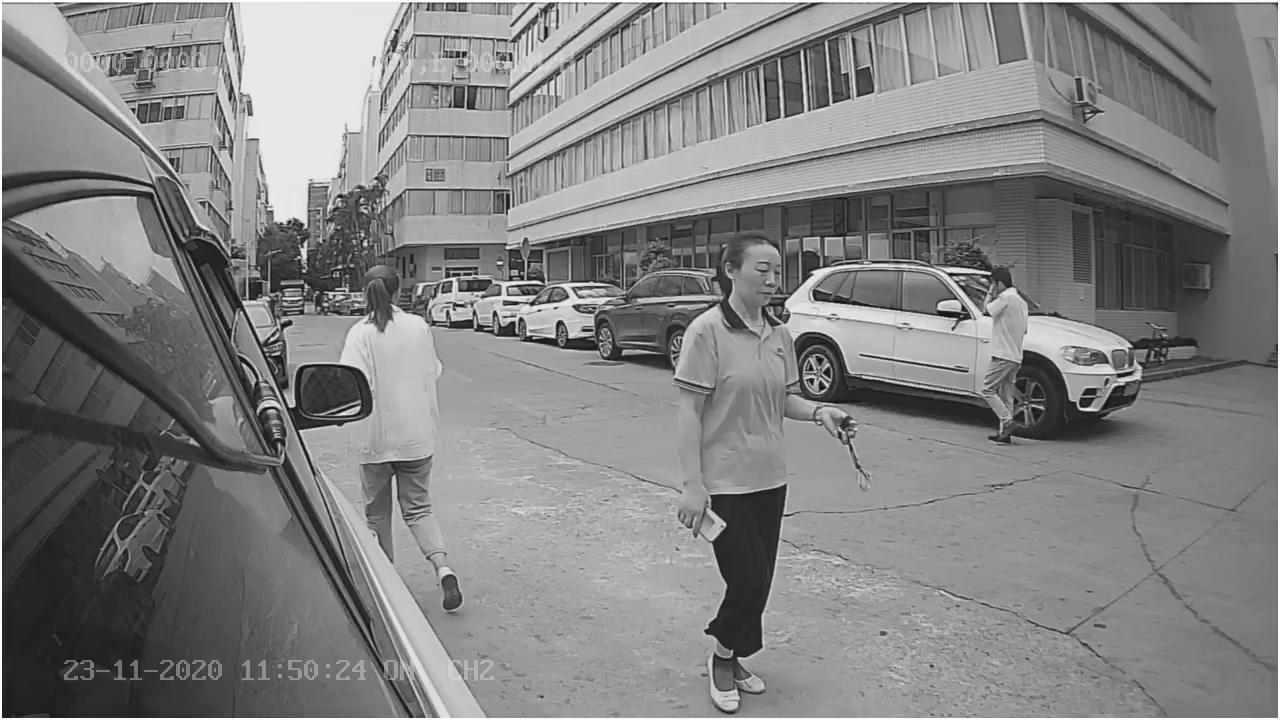person: (658, 221, 857, 715), (974, 250, 1040, 450), (333, 257, 448, 367)
